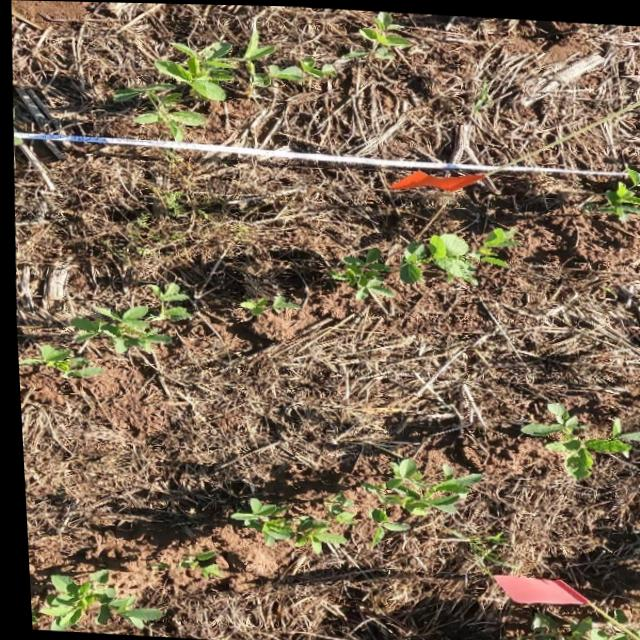grassy_weed: (446, 528, 506, 570), (470, 74, 491, 113)
soy_plant: (113, 21, 335, 138), (358, 455, 475, 542), (516, 399, 640, 476), (67, 281, 187, 352), (35, 568, 154, 631), (225, 492, 351, 550), (395, 224, 514, 282), (525, 609, 634, 640), (341, 8, 410, 56), (328, 245, 391, 297), (15, 343, 98, 376), (592, 165, 640, 217), (237, 293, 296, 313), (172, 549, 216, 574), (625, 621, 640, 639), (25, 610, 31, 623)
